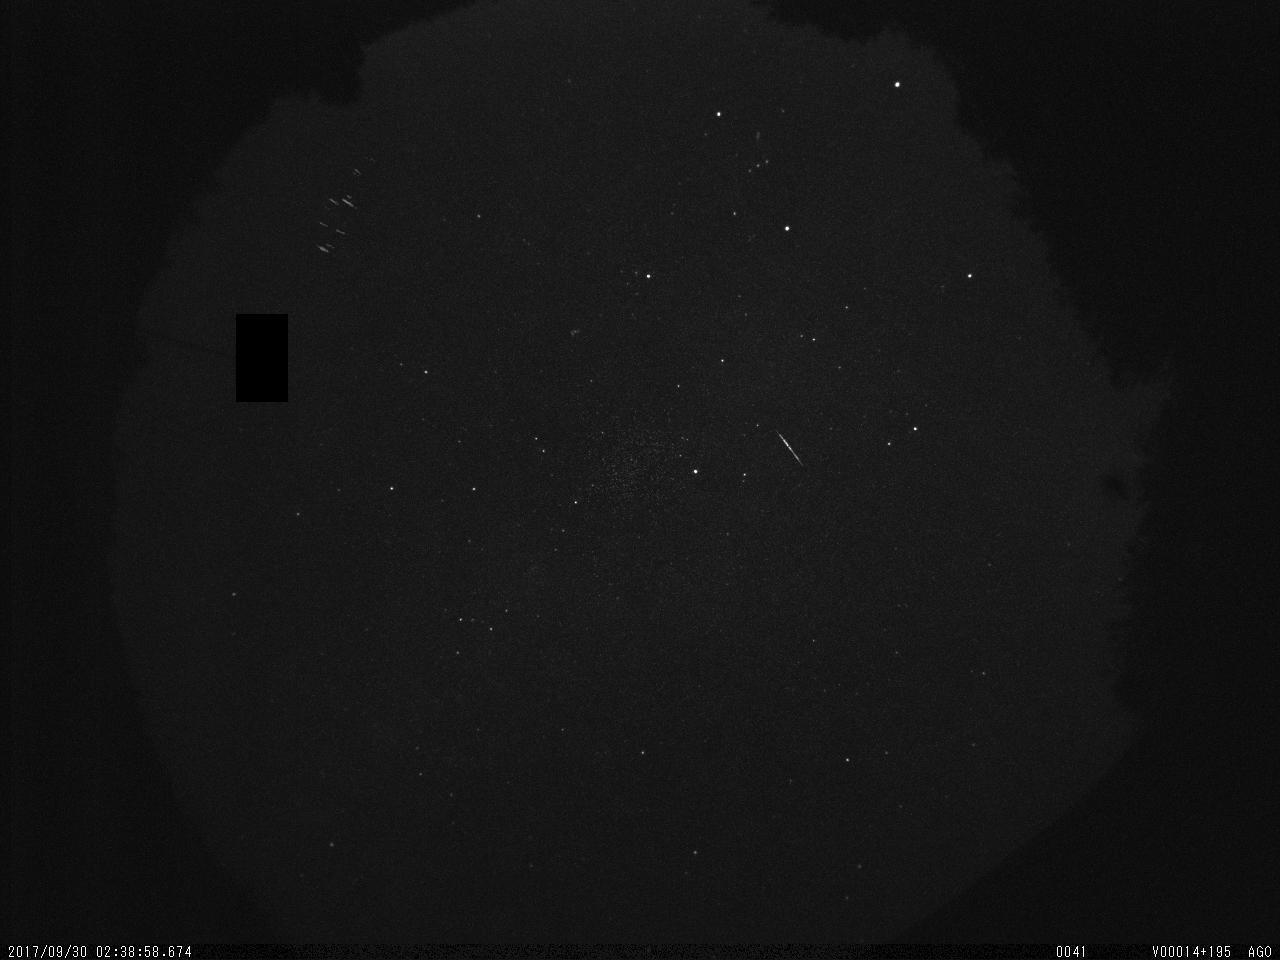TLE: (312, 148, 384, 258)
